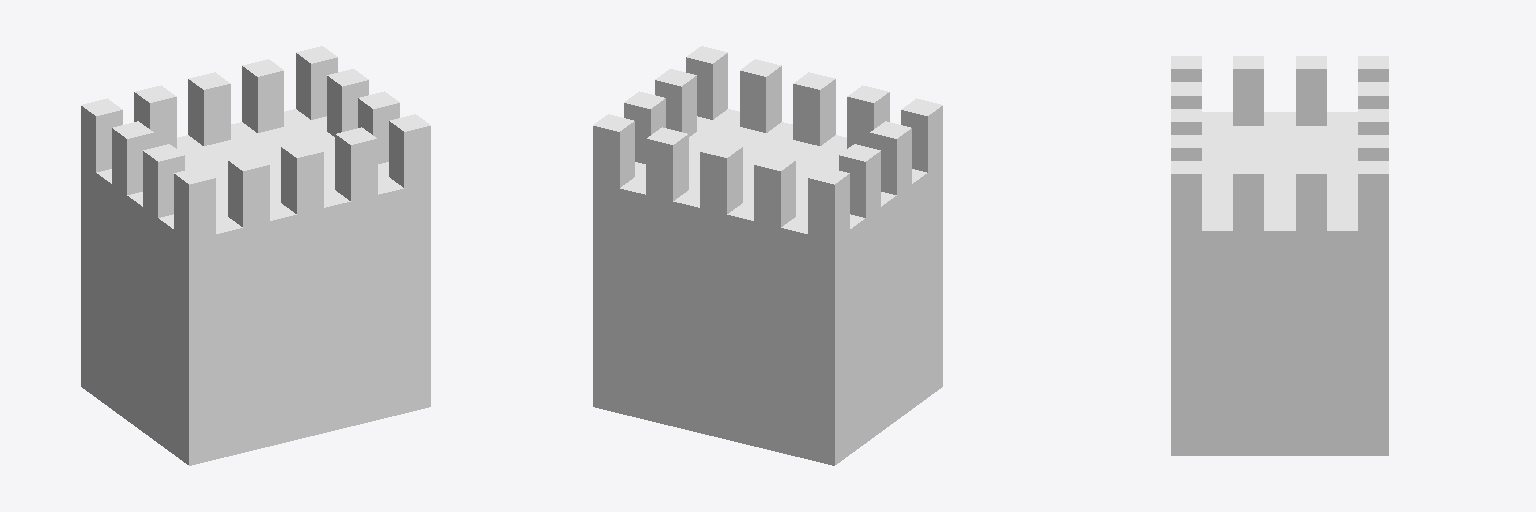
Rendered from cristal-7.obj.
3 renders of one model, left to right at view 1: azimuth 30°, elevation 25°; view 2: azimuth 150°, elevation 25°; view 3: azimuth 270°, elevation 25°, orthographic.
Parts seen in each view (by area): view 1: object 1; view 2: object 1; view 3: object 1.
Part boxes in pixels (x1,y1,x2,y2): object 1: (81, 46, 430, 465); object 1: (593, 46, 942, 465); object 1: (1171, 56, 1388, 455).
Size of the model in its own units: 0.9 by 1 by 0.7.